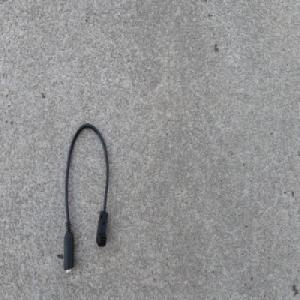Wire: (62, 121, 110, 276)
